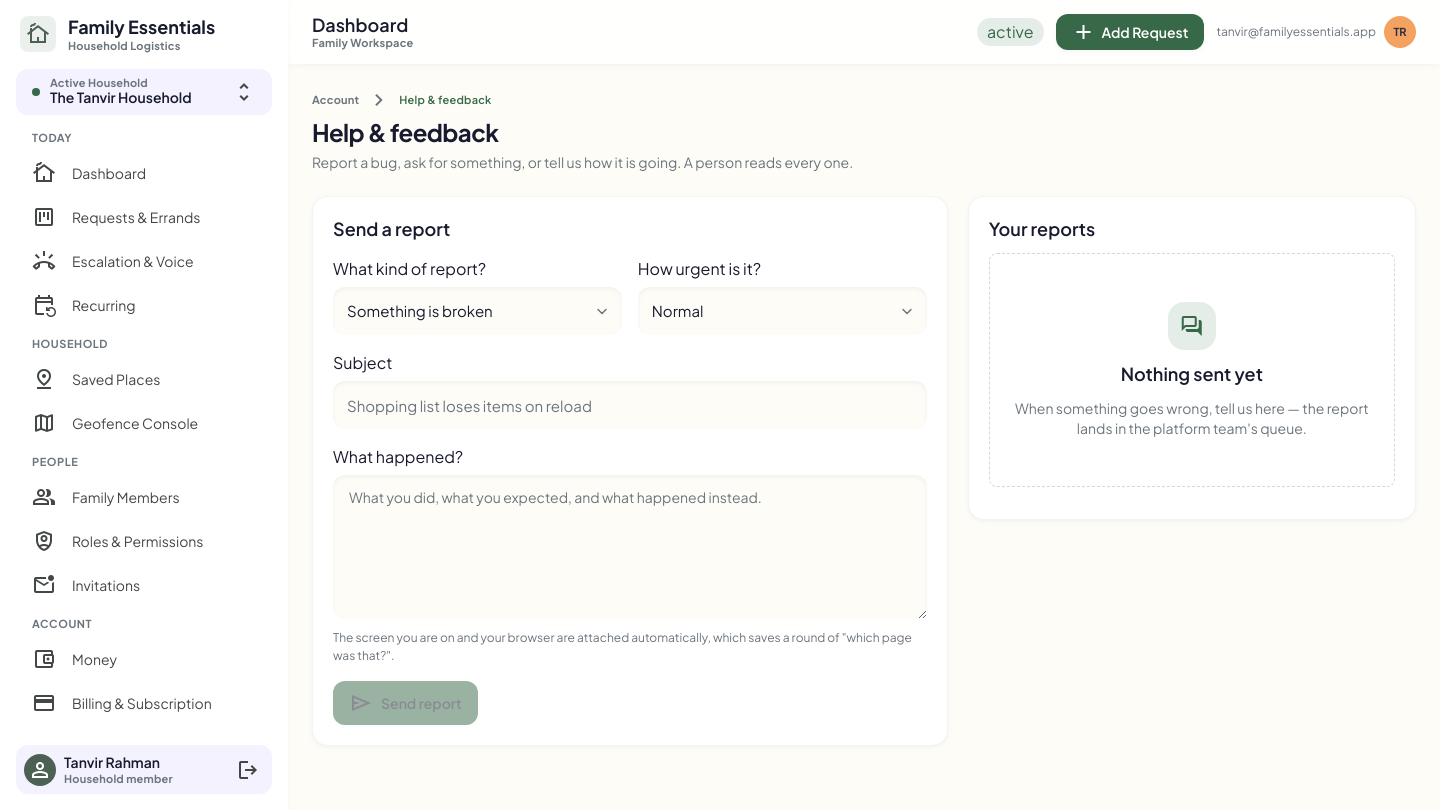
it: help & feedback › sends a report with the screen it happened on
Expected: the heading "Help & feedback" is shown, [312,117,498,147]
Select "Something is broken" in the dropdown labelled "What kind of report?" at (477, 311), box [333,287,622,335]
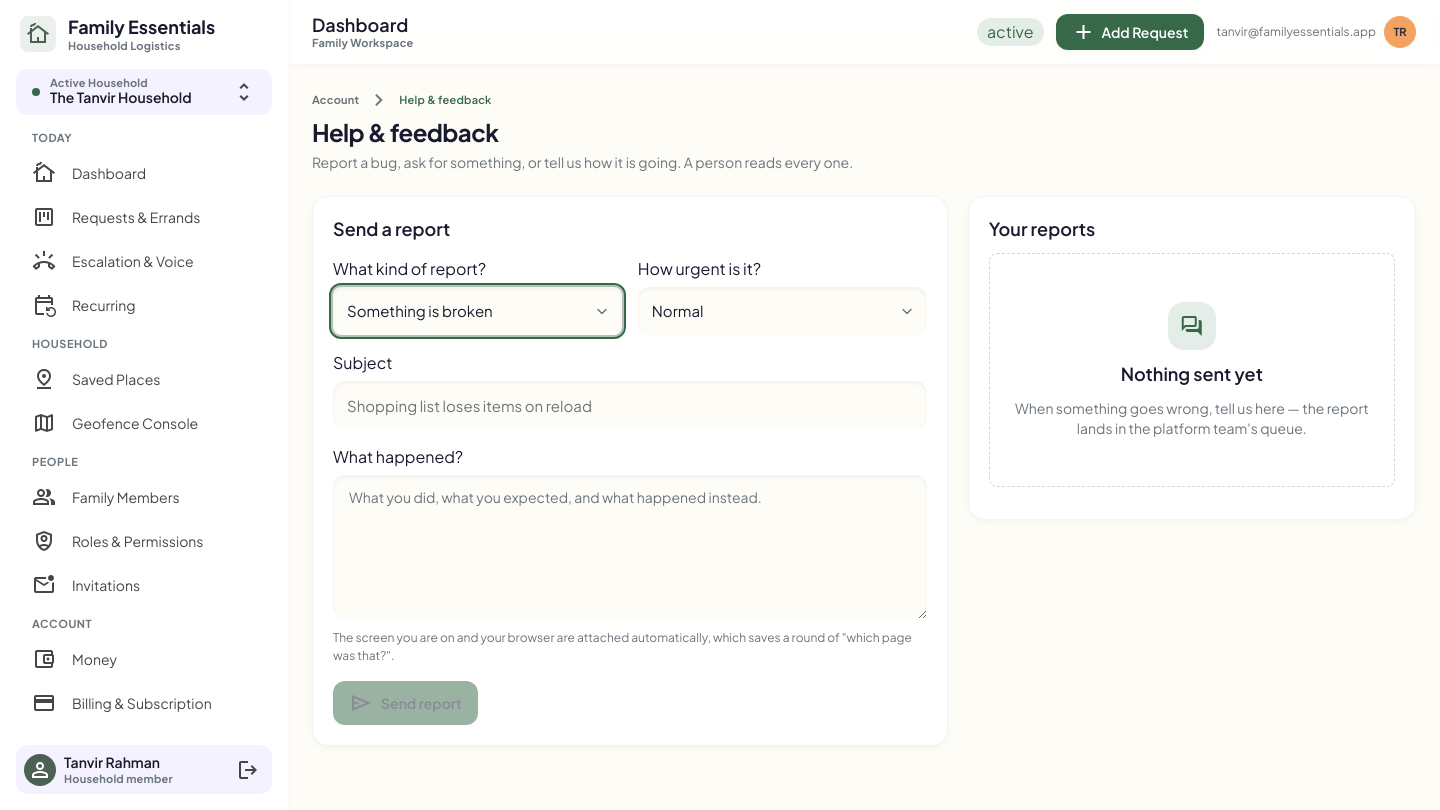
Type "Shopping list loses items" into the field labelled "Subject".
click(630, 405); type("Shopping list loses items")  # box [333,381,927,429]
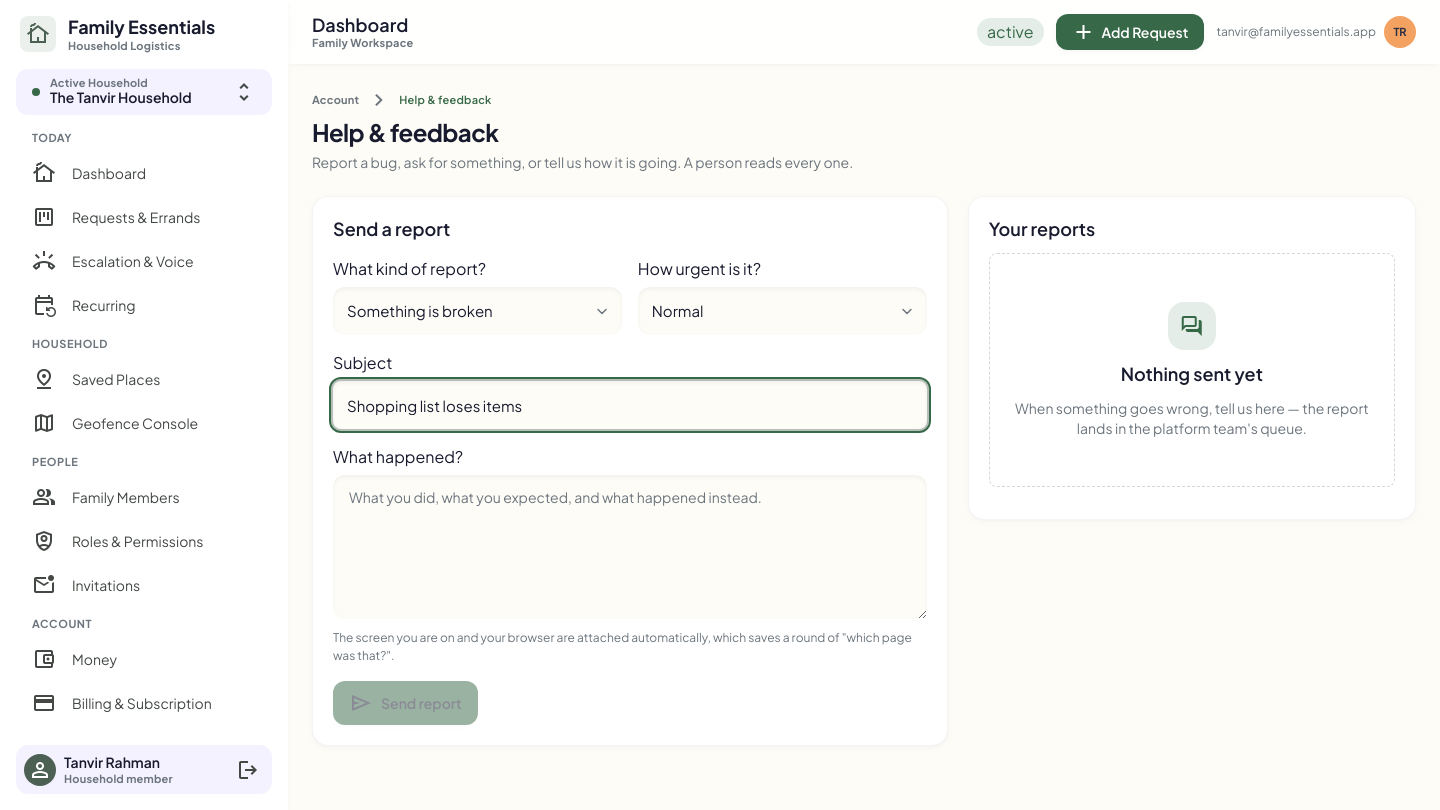
Type "Adding three items then reloading shows only two." into the text box labelled "What happened?".
click(630, 547); type("Adding three items then reloading shows only two.")  # box [333,475,927,619]
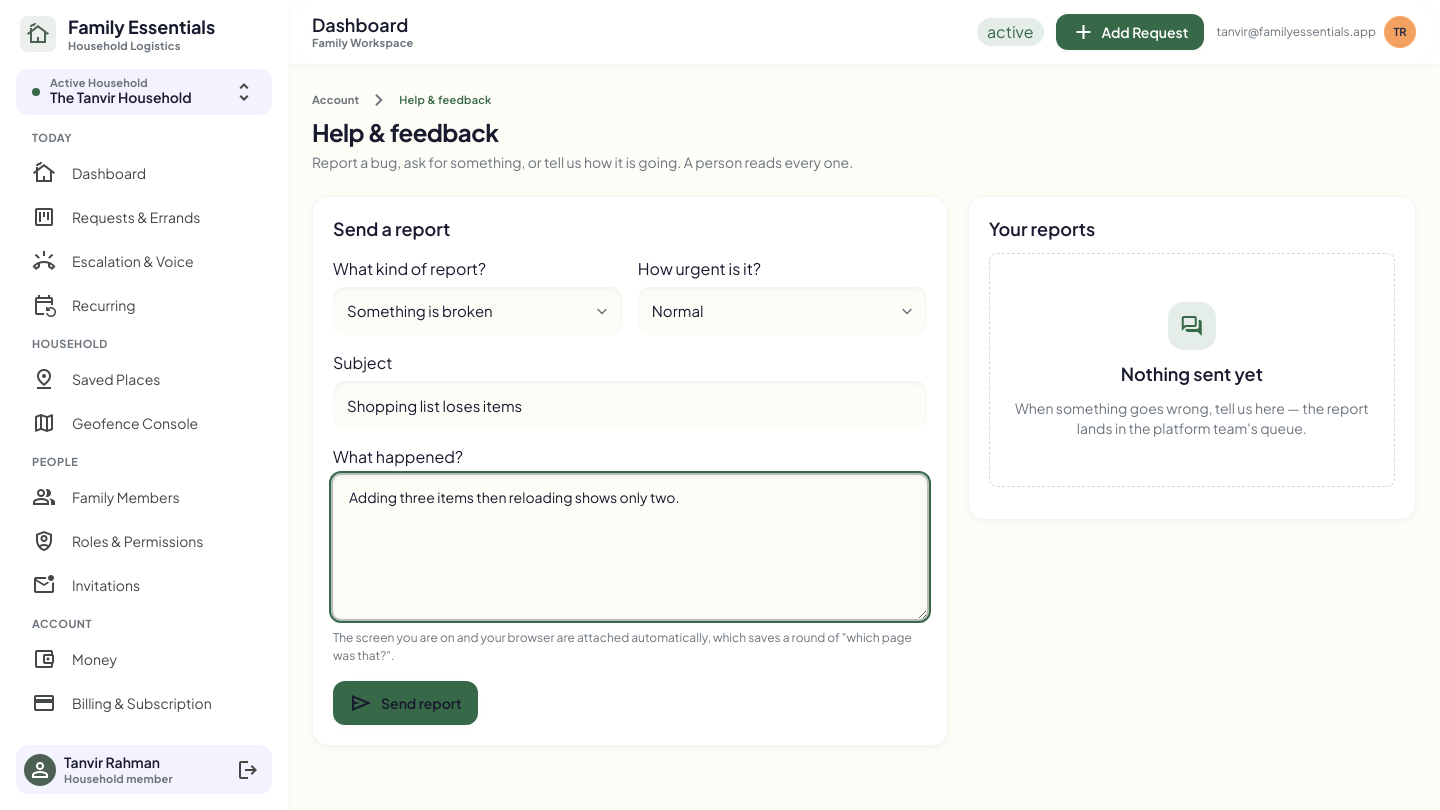
Click the button "Send report".
click(405, 703)  # box [333,681,478,725]
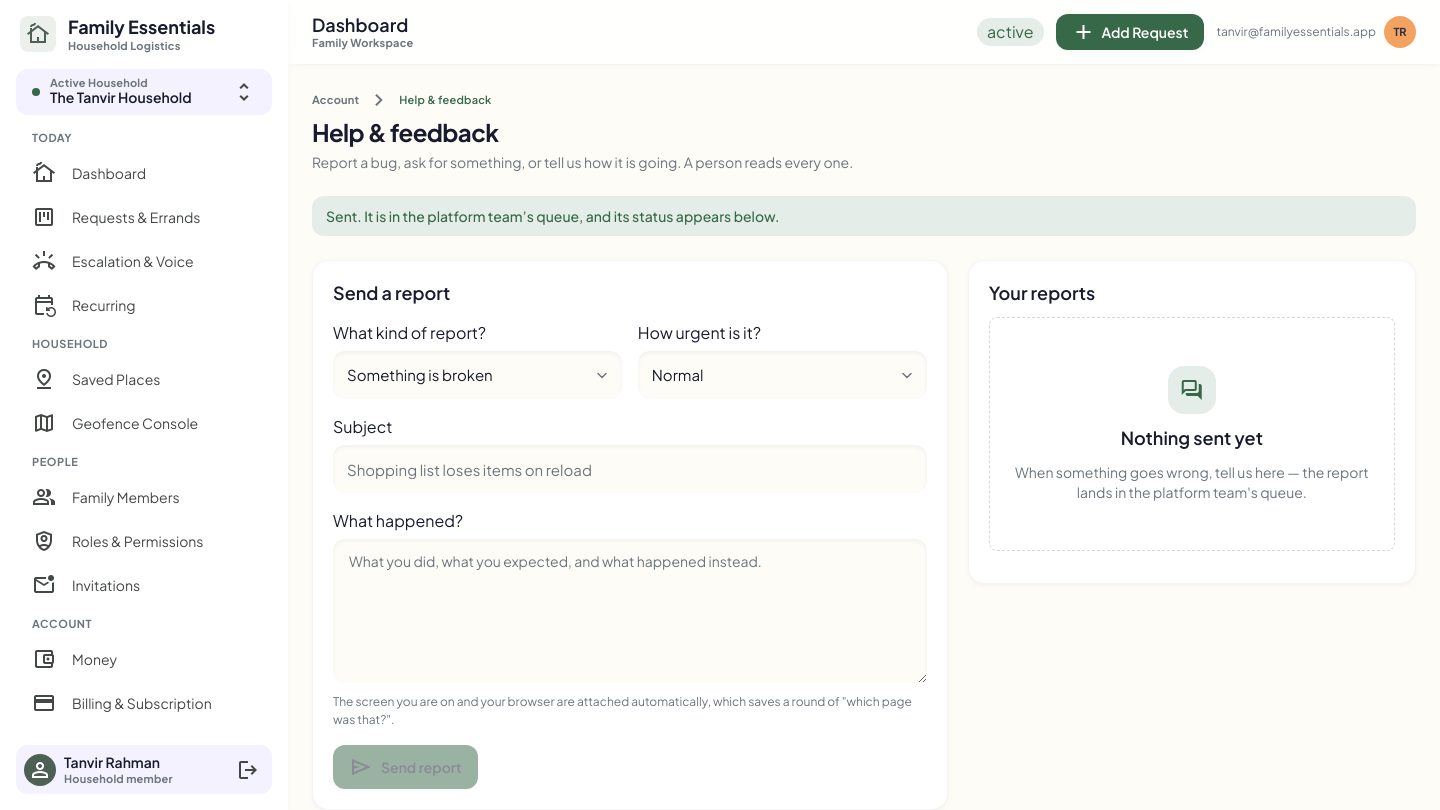
Expected: the text "It is in the platform team’s queue" is shown, [326,207,779,225]
